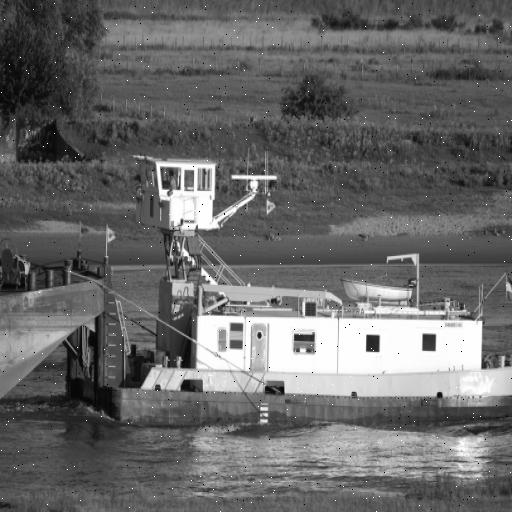tugboat: (63, 150, 512, 439)
